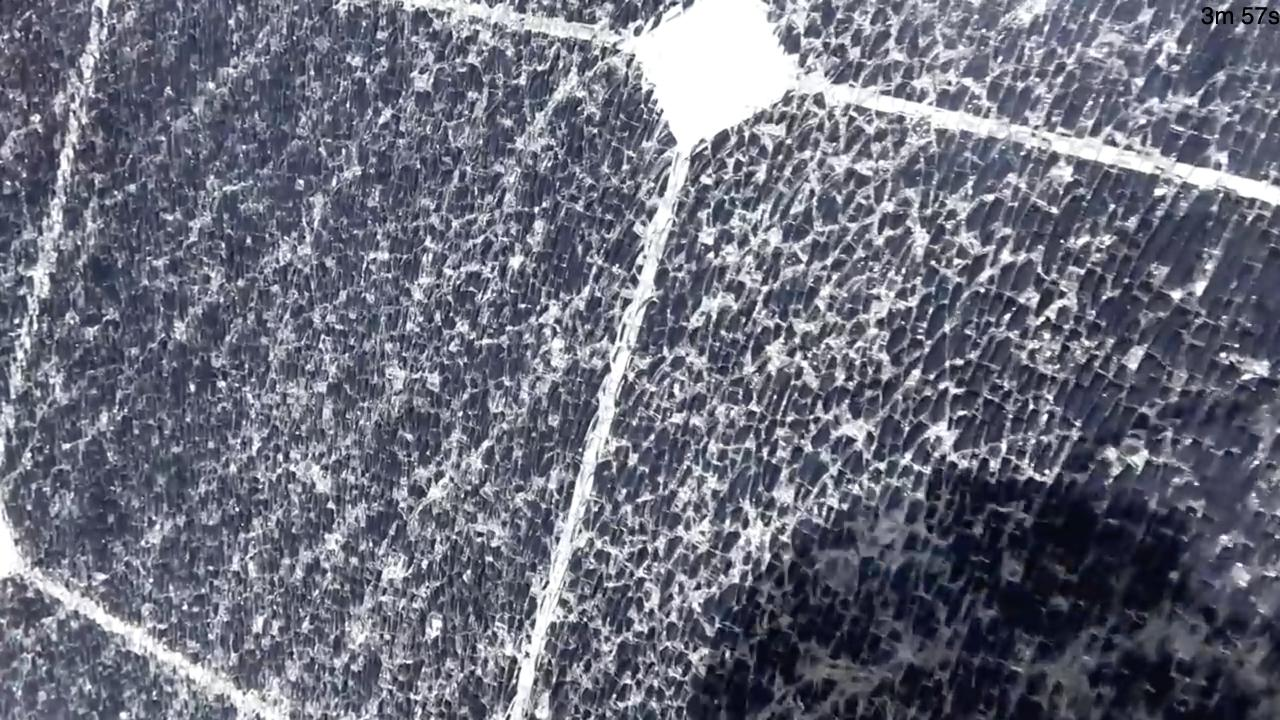Crack: (0, 1, 1264, 718)
